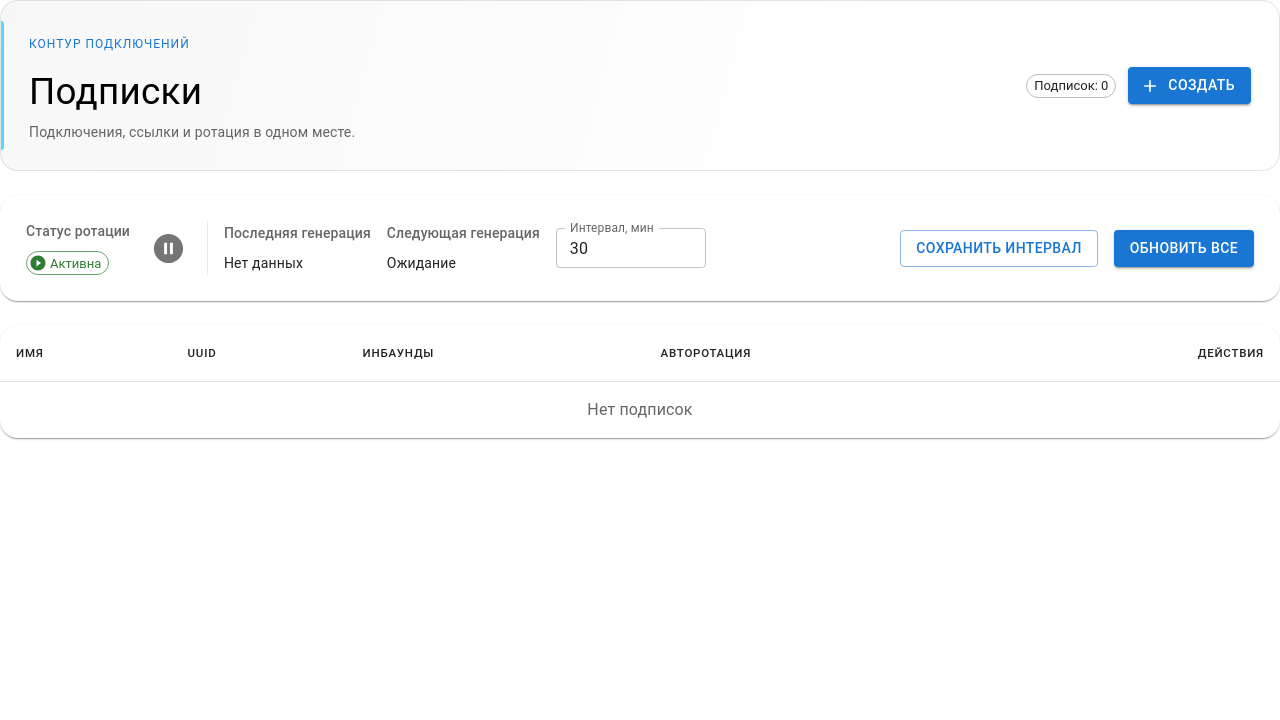
SubscriptionsPage › Диалог создания подписки › должен открывать диалог при клике на "Создать"
The width and height of the screenshot is (1280, 720).
Click the button "Создать".
click(1190, 86)  # box [1128, 67, 1251, 104]
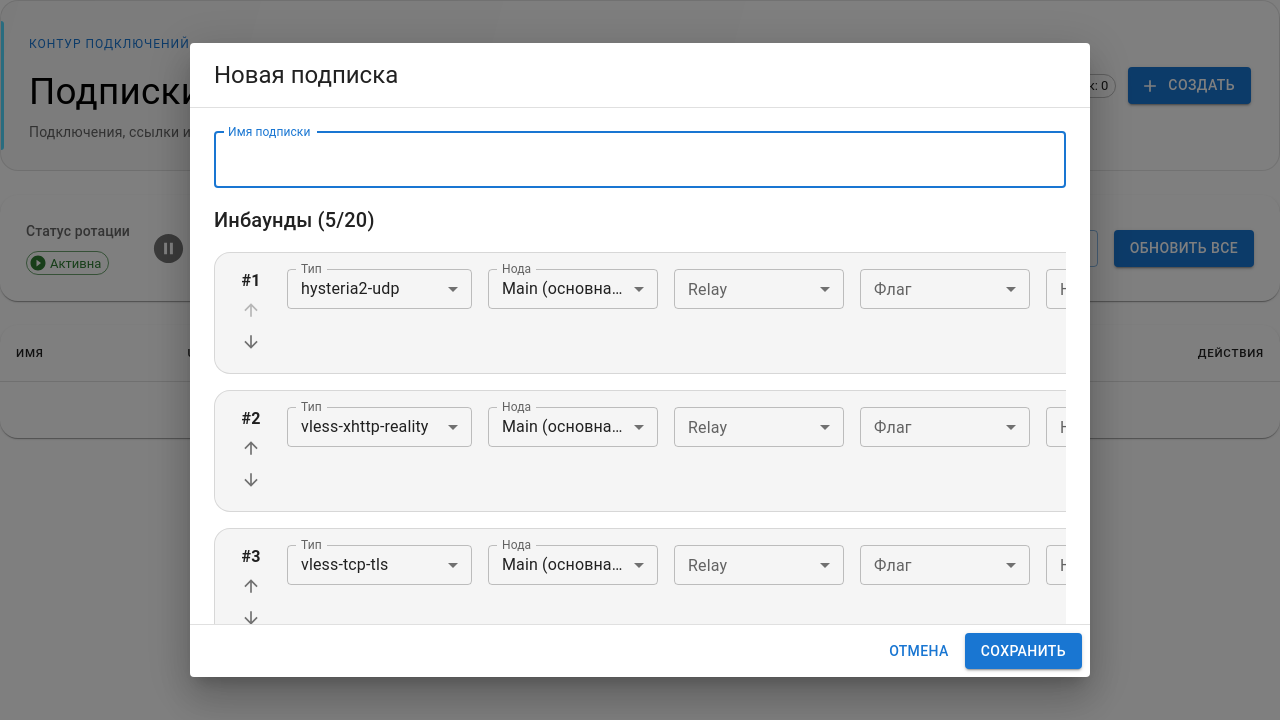
expect the heading "Новая подписка" is shown: met, box [214, 60, 398, 88]
